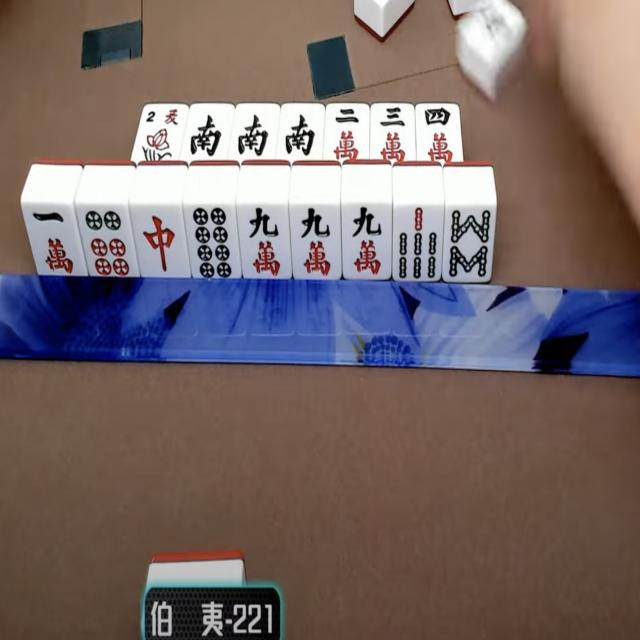1C: (25, 206, 87, 277)
2C: (328, 106, 369, 162)
2S: (136, 106, 185, 162)
3C: (370, 104, 414, 161)
4C: (418, 105, 464, 164)
6D: (79, 206, 138, 278)
7B: (393, 209, 442, 283)
8B: (444, 207, 496, 283)
8D: (187, 206, 241, 279)
9C: (239, 207, 293, 280), (291, 208, 342, 281), (342, 206, 391, 281)
RD: (132, 206, 191, 278)
SW: (185, 104, 233, 161), (233, 103, 280, 161), (280, 104, 324, 161)
